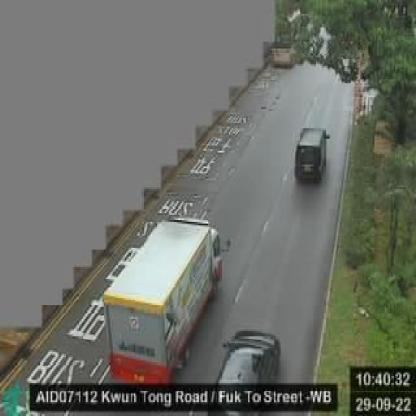Bus: (266, 11, 300, 70)
Car: (204, 331, 290, 383), (290, 123, 329, 192)
Truck: (103, 216, 229, 380)
